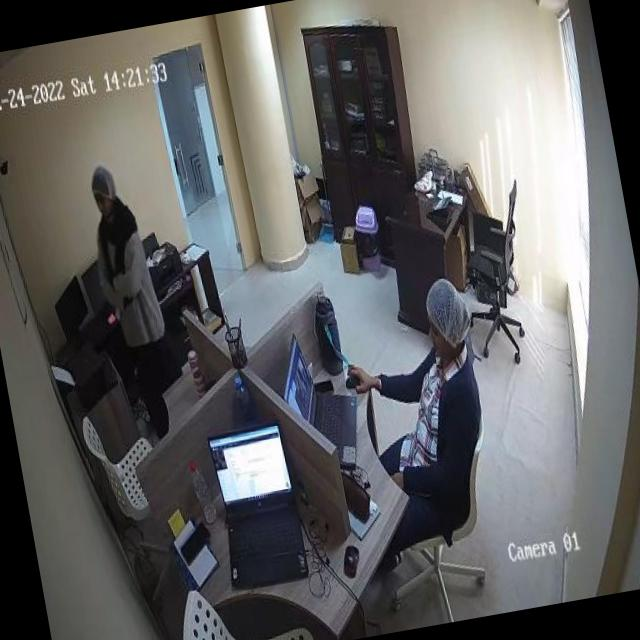hairnet: (421, 274, 474, 354), (89, 168, 116, 205)
